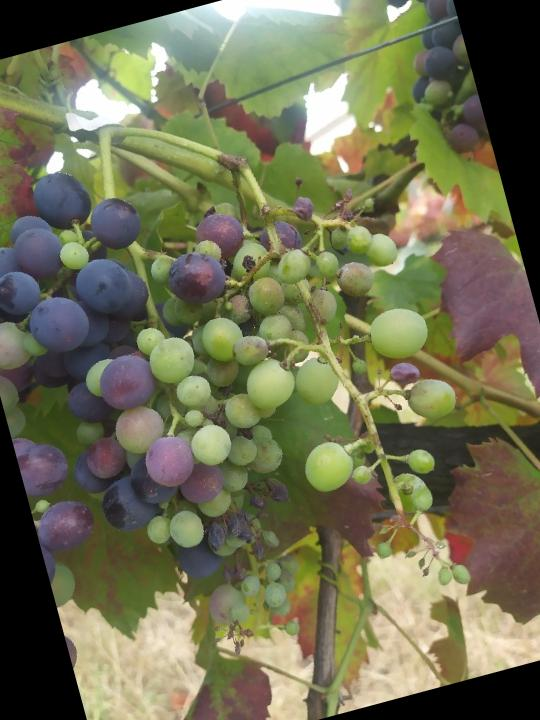grape: (0, 132, 329, 696), (147, 149, 507, 645)
